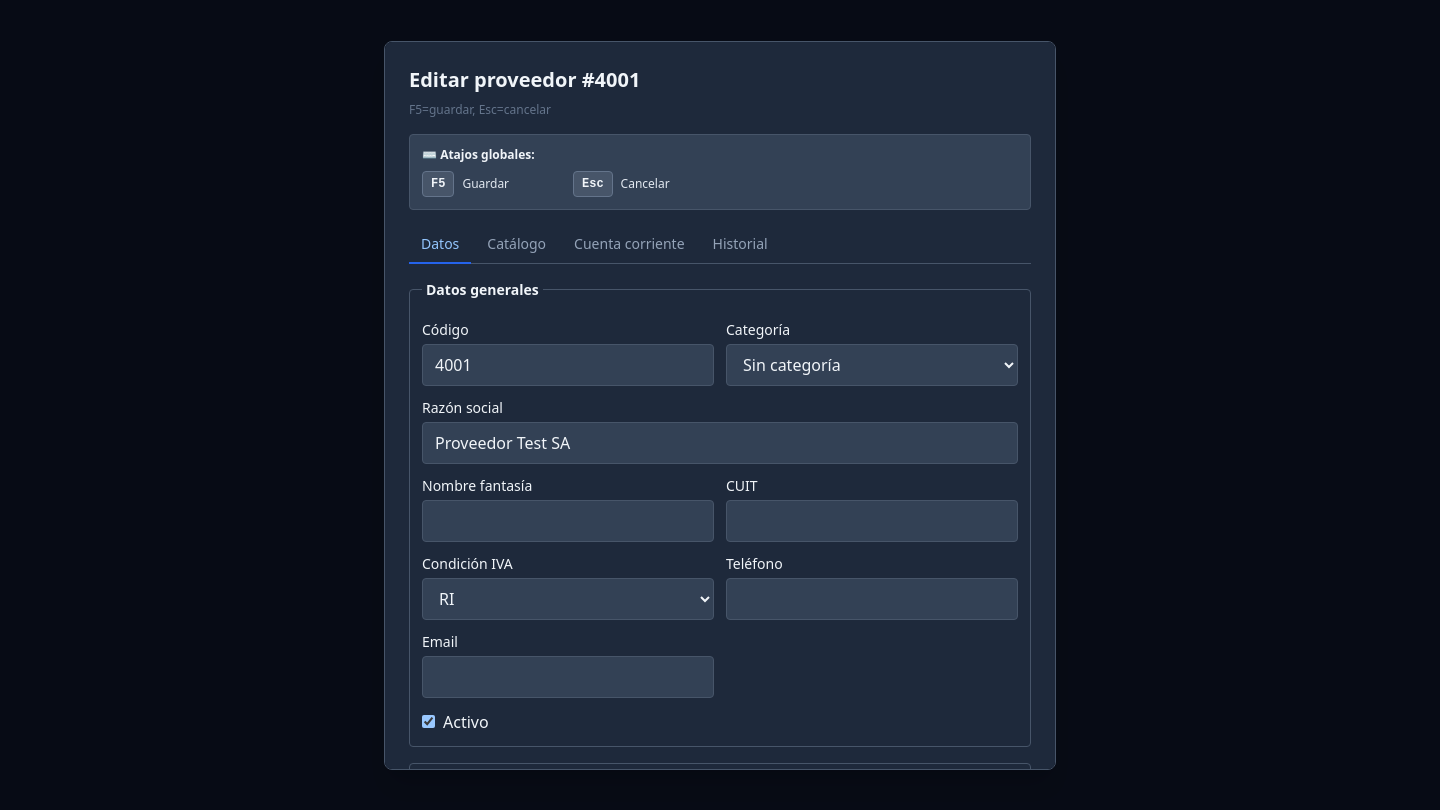
ProveedorForm › muestra pestaña Catálogo en ficha existente
Click the tab with test id "proveedor-tab-catalogo". click: click(517, 244)
box: [475,226,558,264]
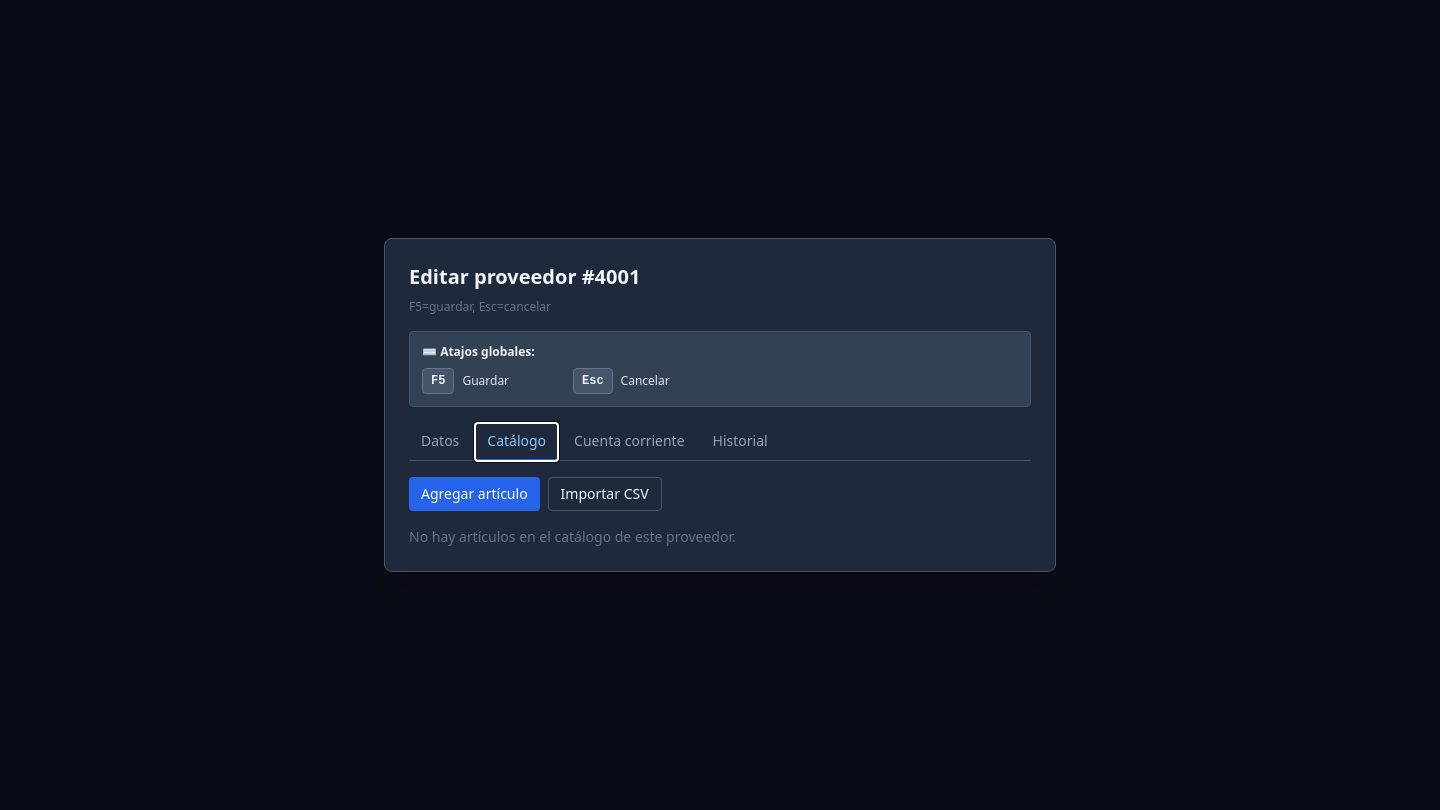
Check: the panel with test id "proveedor-tabpanel-catalogo" is shown, box [409,477,736,546]
